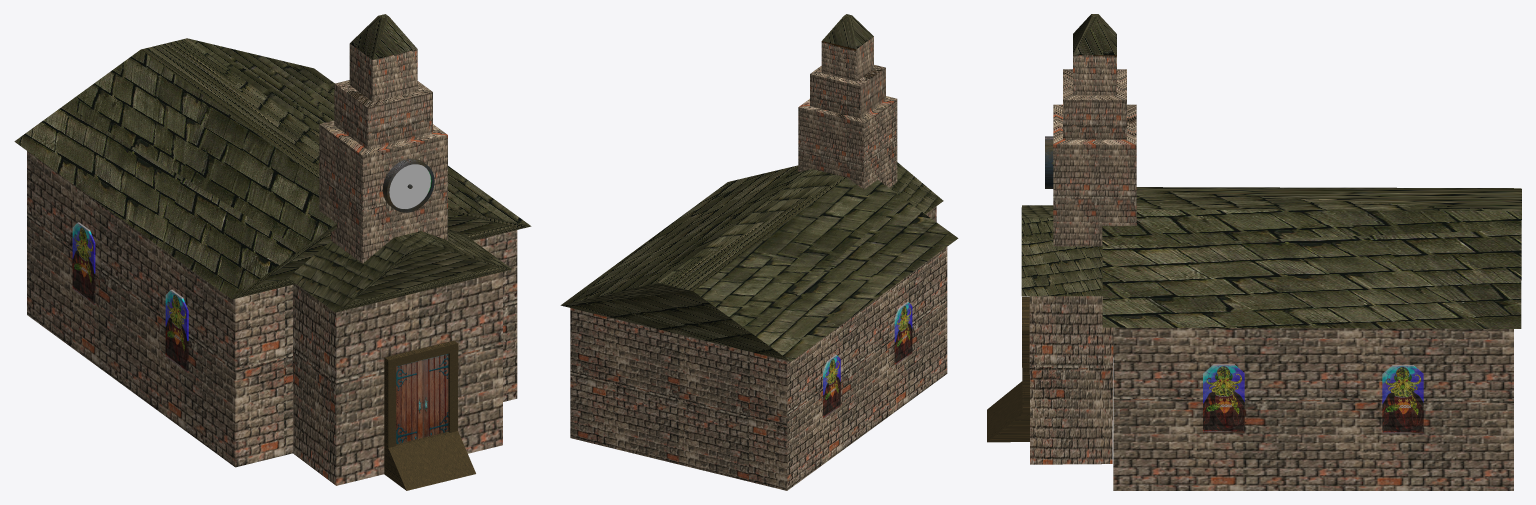
Rendered from church.fbx.
3 views of the same model, side by side, from view 1: azimuth 30°, elevation 25°; view 2: azimuth 150°, elevation 25°; view 3: azimuth 270°, elevation 25° (orthographic). The views are drawn at different scales.
Parts seen in each view (by area): view 1: church; view 2: church; view 3: church.
Part boxes in pixels (bbox=[...]): church: bbox=[14, 14, 531, 490]; church: bbox=[560, 14, 958, 490]; church: bbox=[987, 14, 1521, 490].
Bounding box in the file's own units: 10.7 × 14.51 × 17.17.
